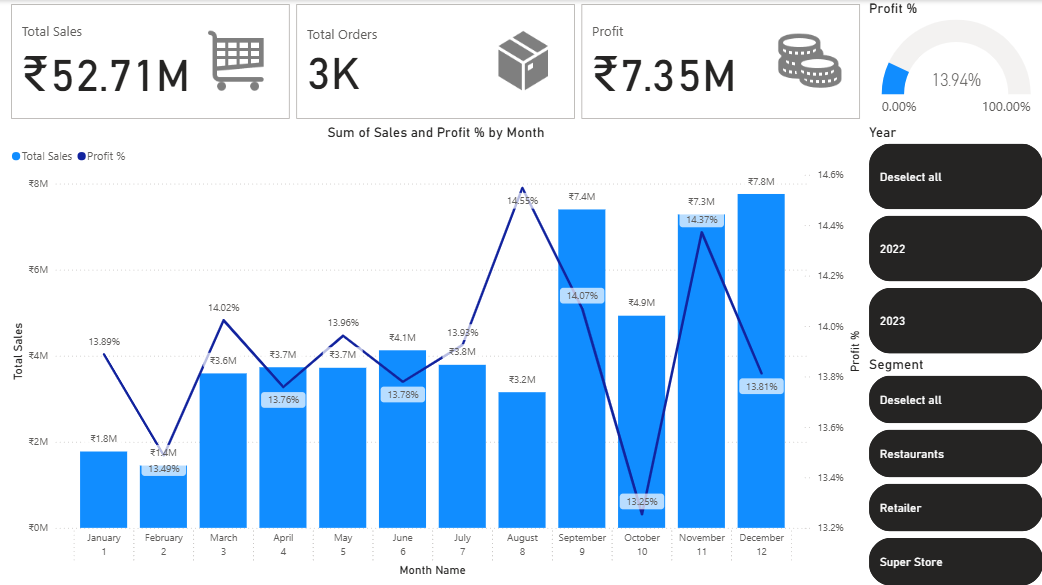

Layout of this report page (visuals, bound fields, positions):
{"tool":"powerbi","page":{"name":"Monthly Sales/Profit%","canvas":[1280,720],"ordinal":0},"visuals":[{"type":"cardVisual","fields":{"Data":["Measures (2).Total Sales","Measures (2).Total Orders","Measures (2).Profit"]},"box":[10.5,0,1047.1,150.9],"z":0},{"type":"gauge","fields":{"Y":["Measures (2).Profit %"]},"box":[1057.6,0,222.6,150.9],"z":1000},{"type":"advancedSlicerVisual","fields":{"Values":["NationalStore - DateTable.Year"]},"box":[1057.6,150.9,222.6,285.3],"z":2000},{"type":"advancedSlicerVisual","fields":{"Values":["NationalStore - SalesTable.Segment"]},"box":[1057.6,434.7,222.6,285.3],"z":3000},{"type":"lineStackedColumnComboChart","title":"Sum of Sales and Profit % by Month","fields":{"Category":["NationalStore - DateTable.Month","NationalStore - DateTable.Month Name"],"Y":["Measures (2).Total Sales"],"Y2":["Measures (2).Profit %"]},"box":[10.5,150.9,1047.1,557.2],"z":3001}]}

Visuals, with their boxes in screenshot pixels (x1, y1, x2, y2), scaled from the page's 1280x720 canvas onto the 1042x585 screenshot:
cardVisual - Measures (2).Total Sales x Measures (2).Total Orders: 9,0,861,123
gauge - Measures (2).Profit %: 861,0,1041,123
advancedSlicerVisual - NationalStore - DateTable.Year: 861,123,1041,354
advancedSlicerVisual - NationalStore - SalesTable.Segment: 861,353,1041,584
"Sum of Sales and Profit % by Month" lineStackedColumnComboChart: 9,123,861,575
